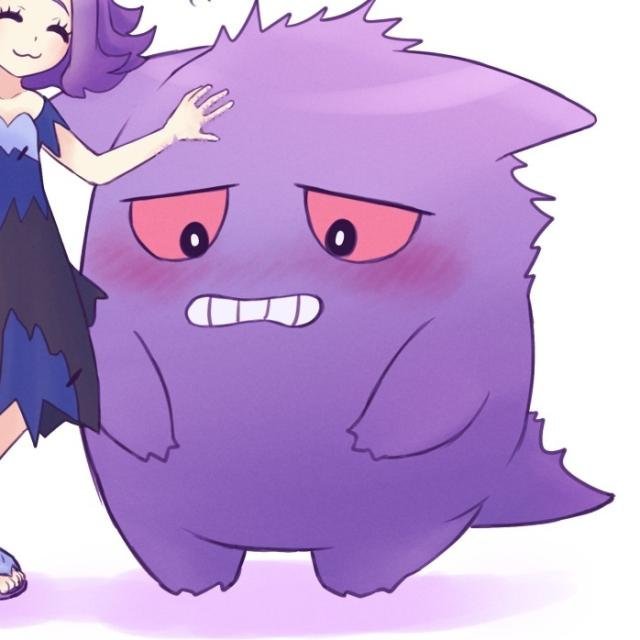Gengar: (44, 4, 618, 611)
